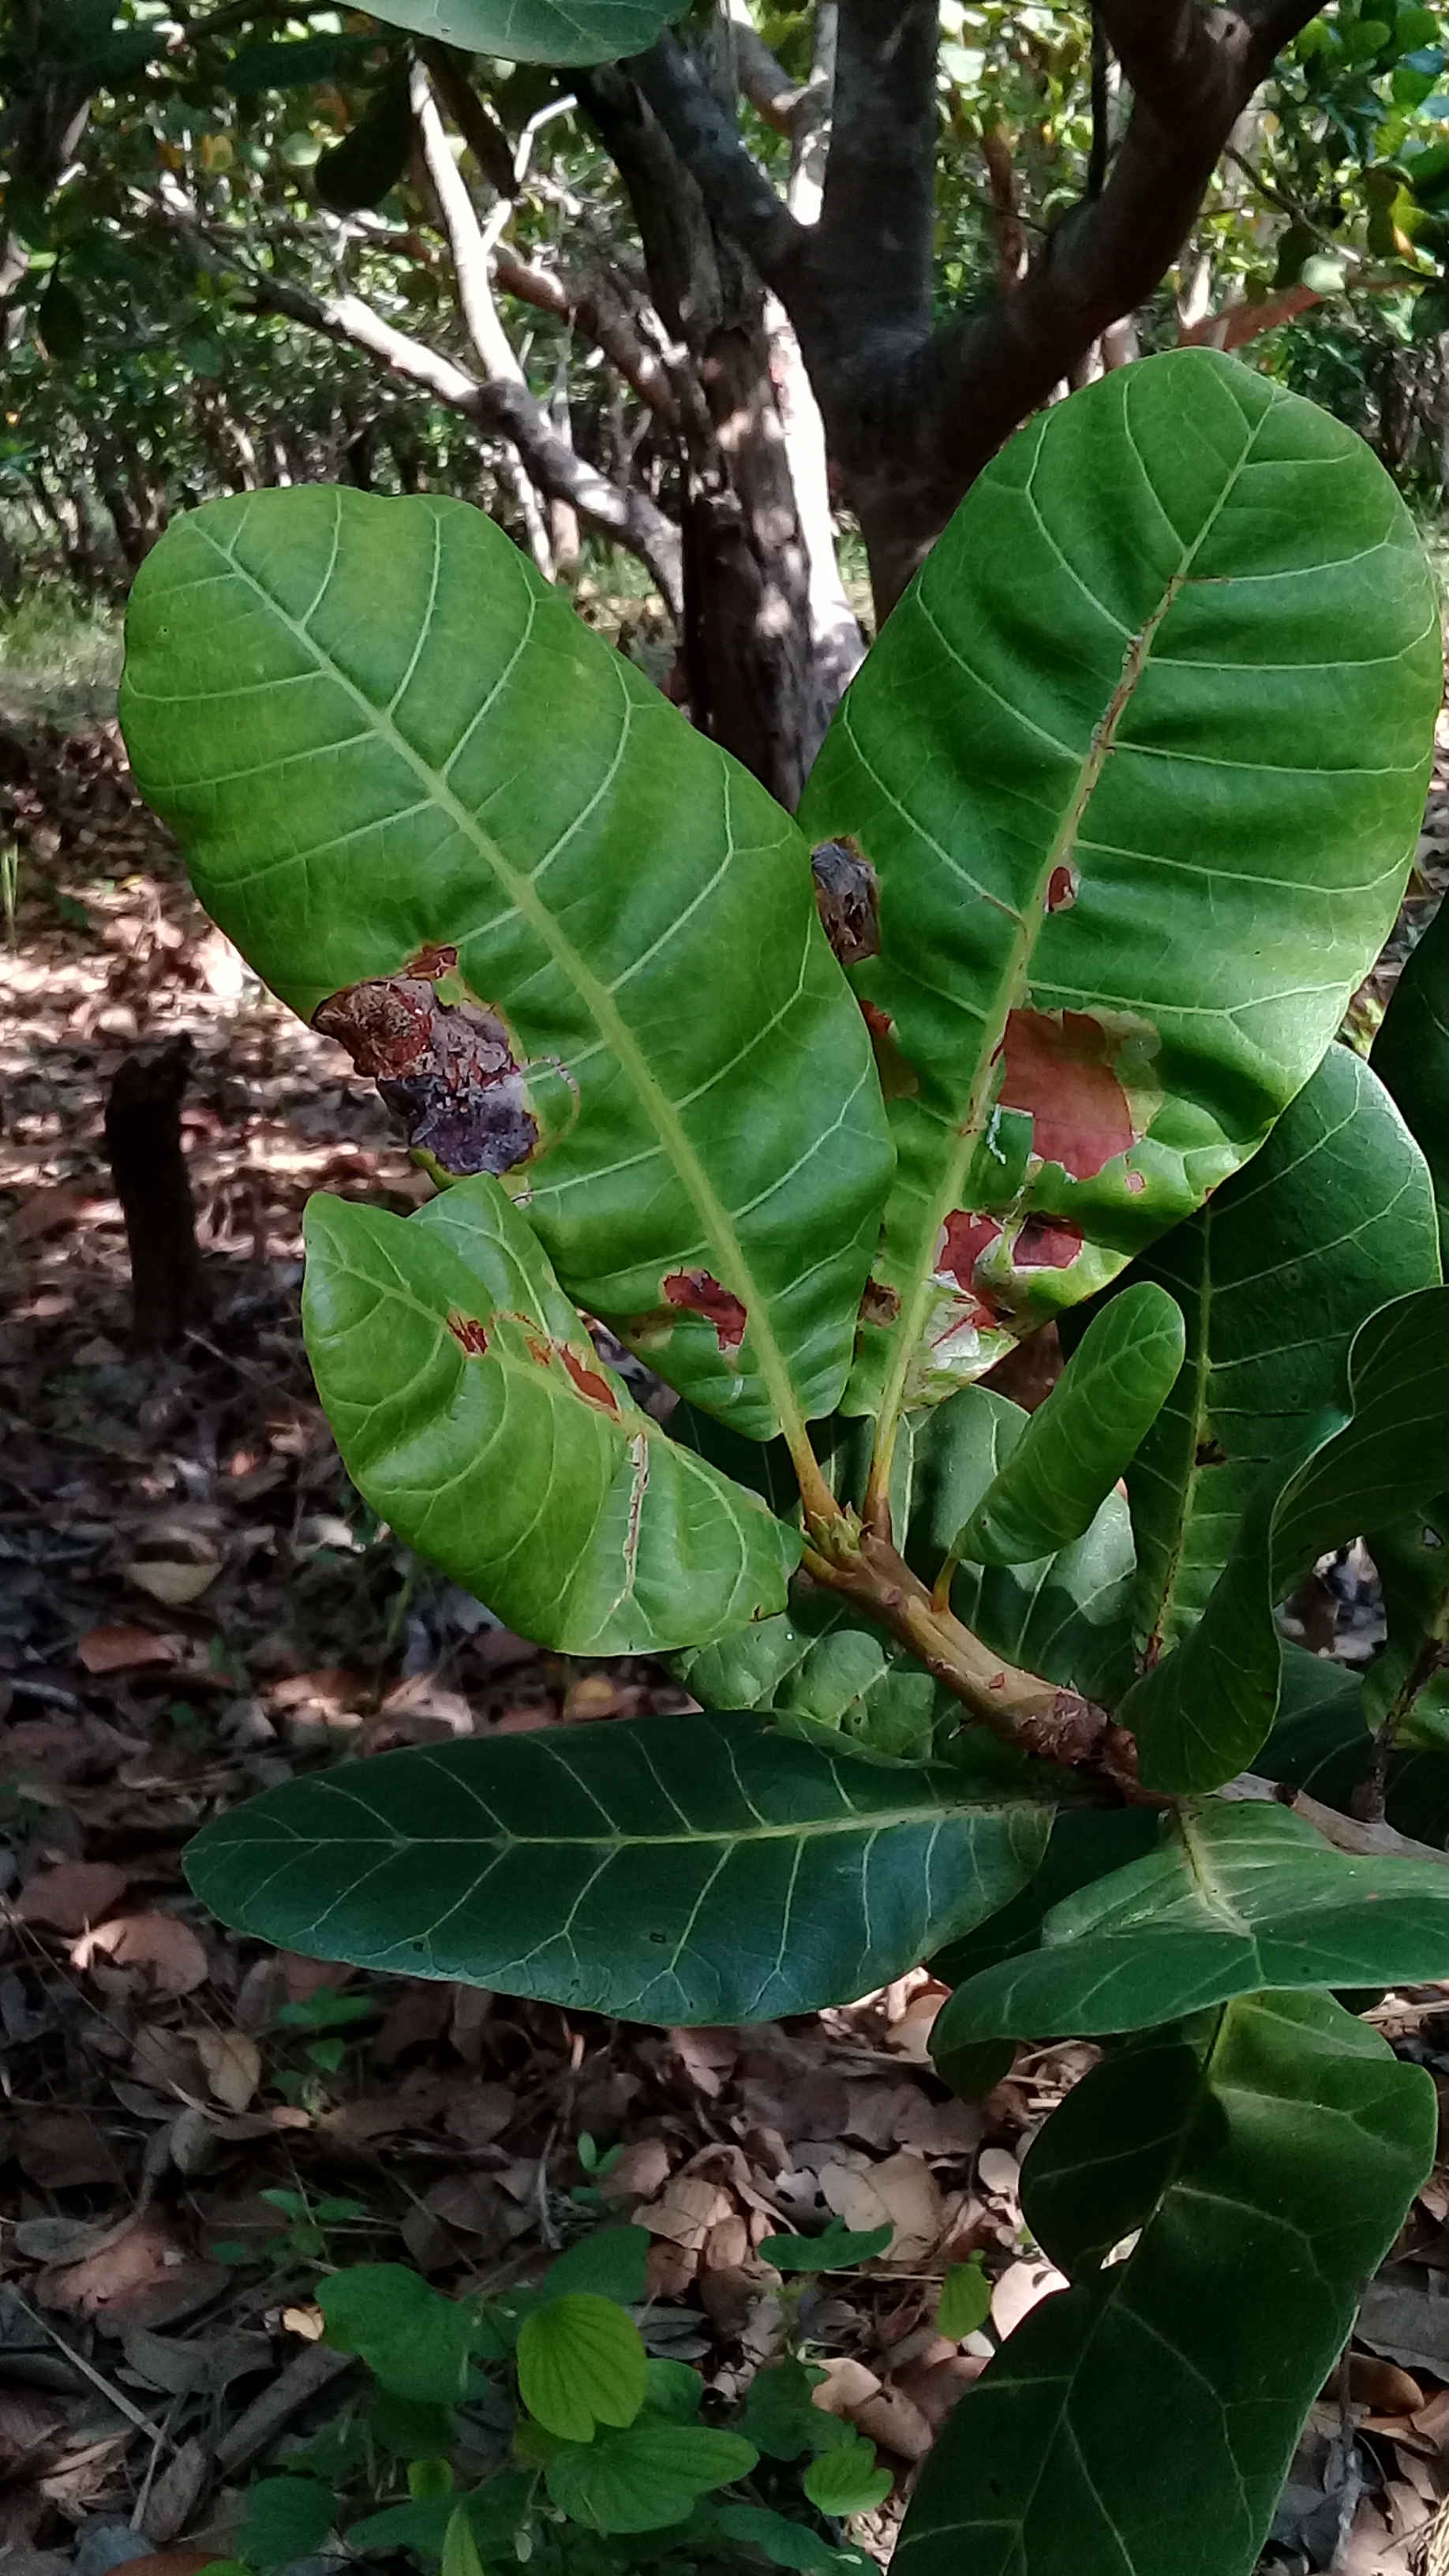Dysdercus wolkerii: (124, 464, 950, 1509), (823, 326, 1449, 1398)
